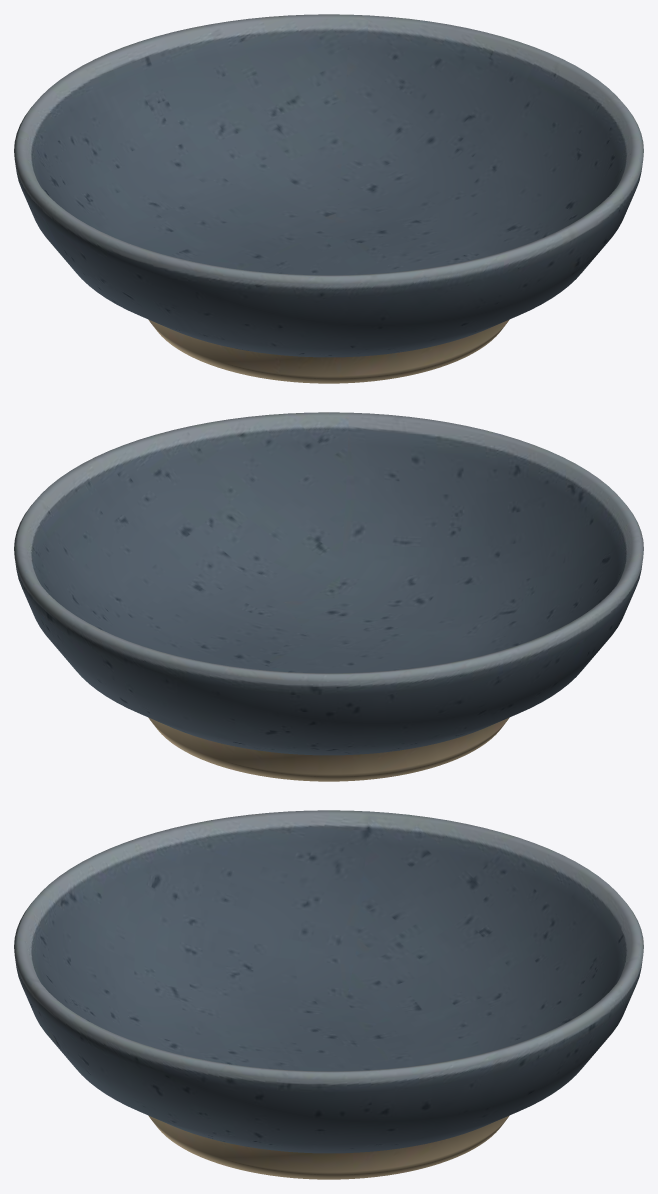
The model's file is w51keydish.glb.
The picture shows the model from 3 angles, top to bottom: view 1: azimuth 30°, elevation 25°; view 2: azimuth 150°, elevation 25°; view 3: azimuth 270°, elevation 25°; orthographic projection.
Parts seen in each view (by area): view 1: keydish; view 2: keydish; view 3: keydish.
Boxes of the visible parts, bbox=[...] form: keydish: bbox=[14, 14, 643, 383]; keydish: bbox=[14, 412, 643, 781]; keydish: bbox=[14, 810, 643, 1179].
Bounding box in the file's own units: 0.16 × 0.0452 × 0.16.
Materials: 1 (1 with a texture image).
